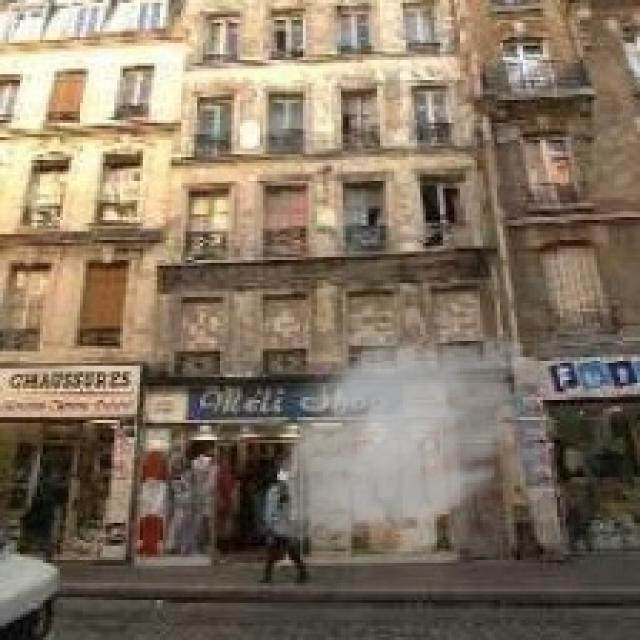smoke: (260, 317, 537, 566)
